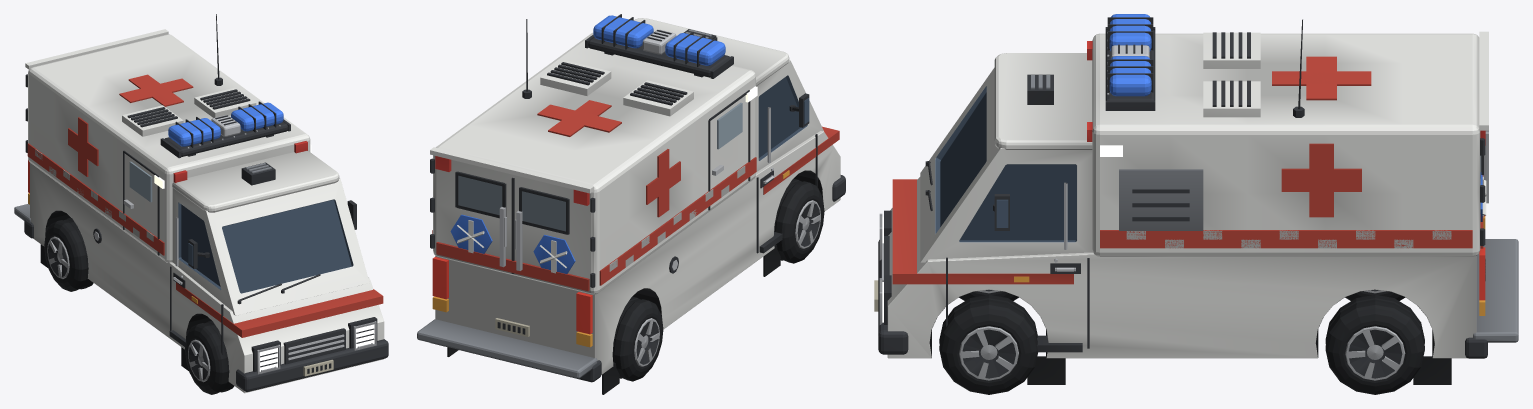
File: ambulance-near.glb
3 renders of one model, left to right at view 1: azimuth 30°, elevation 25°; view 2: azimuth 150°, elevation 25°; view 3: azimuth 270°, elevation 25°, orthographic. The views are drawn at different scales.
Visible parts, largest first — view 1: Ambulance; view 2: Ambulance; view 3: Ambulance.
Part boxes in pixels (x1=…): Ambulance: x1=14, y1=14, x2=388, y2=394; Ambulance: x1=417, y1=14, x2=845, y2=394; Ambulance: x1=874, y1=14, x2=1518, y2=394.
Size of the model in its own units: 1.36 by 2.09 by 3.37.
